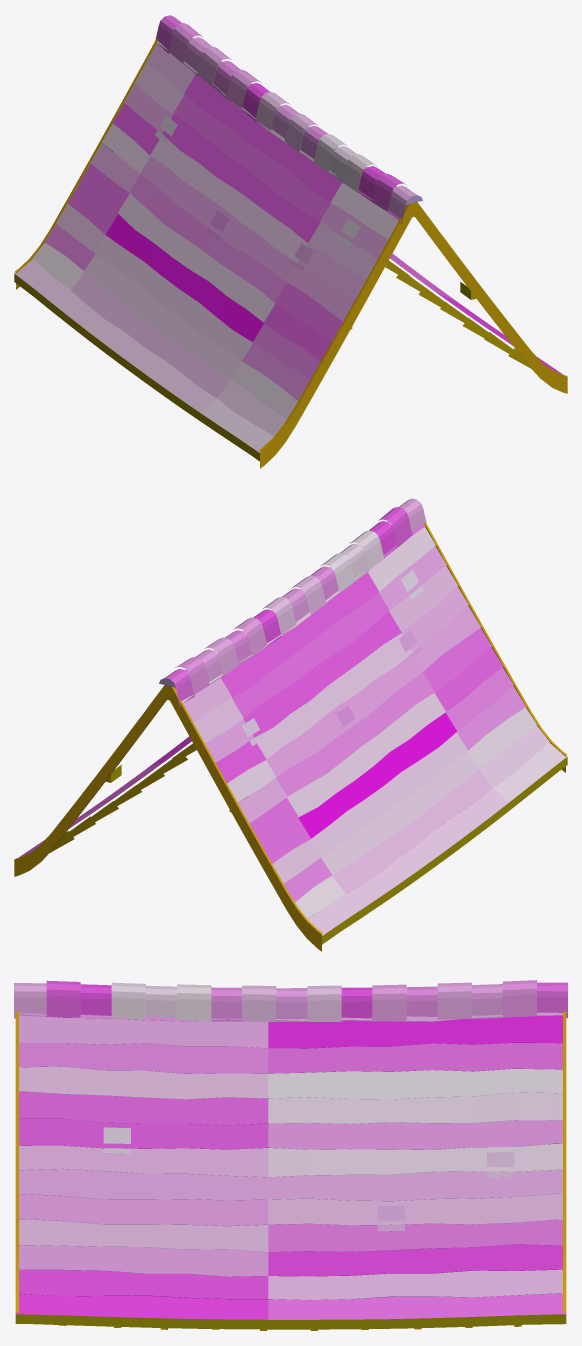
Rendered from roof_p_4x6.glb.
The picture shows the model from 3 angles, top to bottom: view 1: azimuth 30°, elevation 25°; view 2: azimuth 150°, elevation 25°; view 3: azimuth 270°, elevation 25°; orthographic projection. The views are drawn at different scales.
Parts seen in each view (by area): view 1: roof_p_4x6; view 2: roof_p_4x6; view 3: roof_p_4x6.
Boxes of the visible parts, <box> form: roof_p_4x6: <box>14,15,567,468</box>; roof_p_4x6: <box>14,498,567,951</box>; roof_p_4x6: <box>14,980,567,1330</box>.
Bounding box in the file's own units: 4.86 × 3.59 × 6.74.
